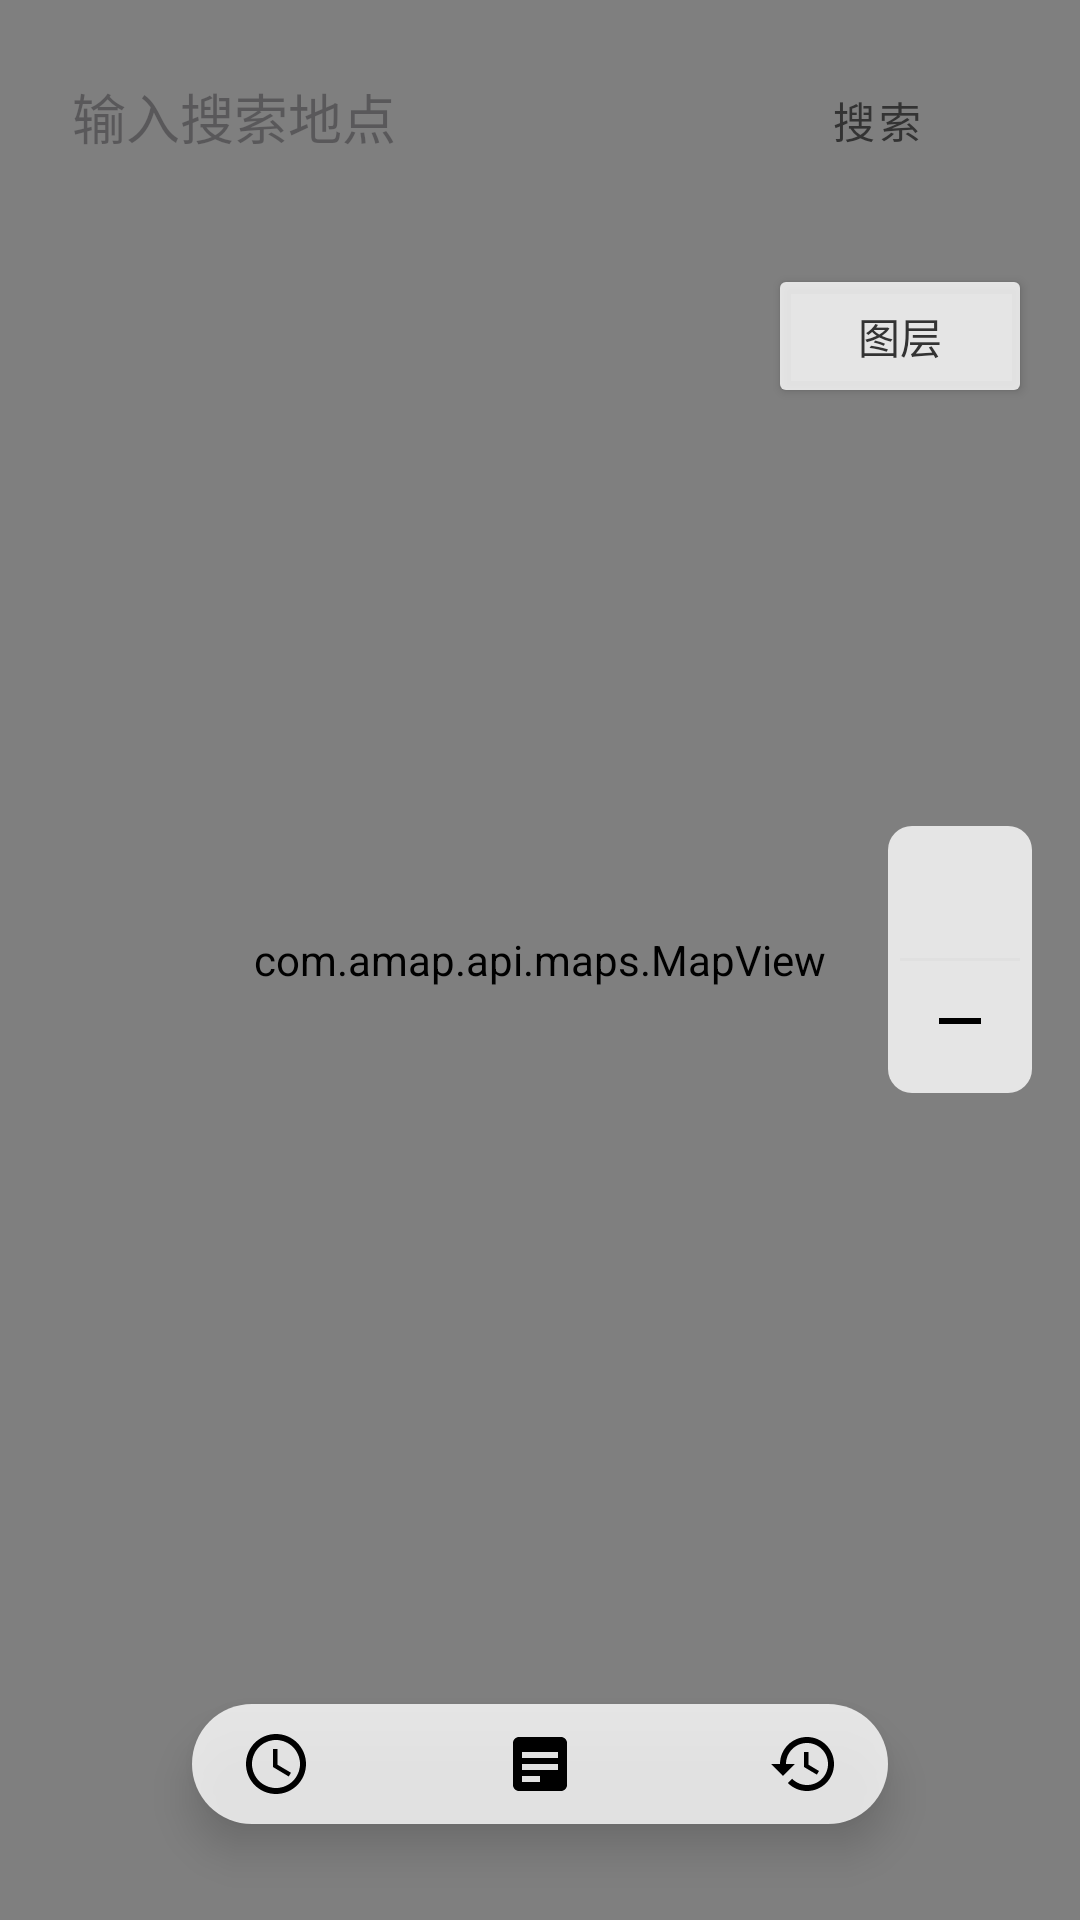

Point at icon controls on the screen. Image size 1080px×1920px, points as (x=x, y=y).
route history: (x=802, y=1764)
